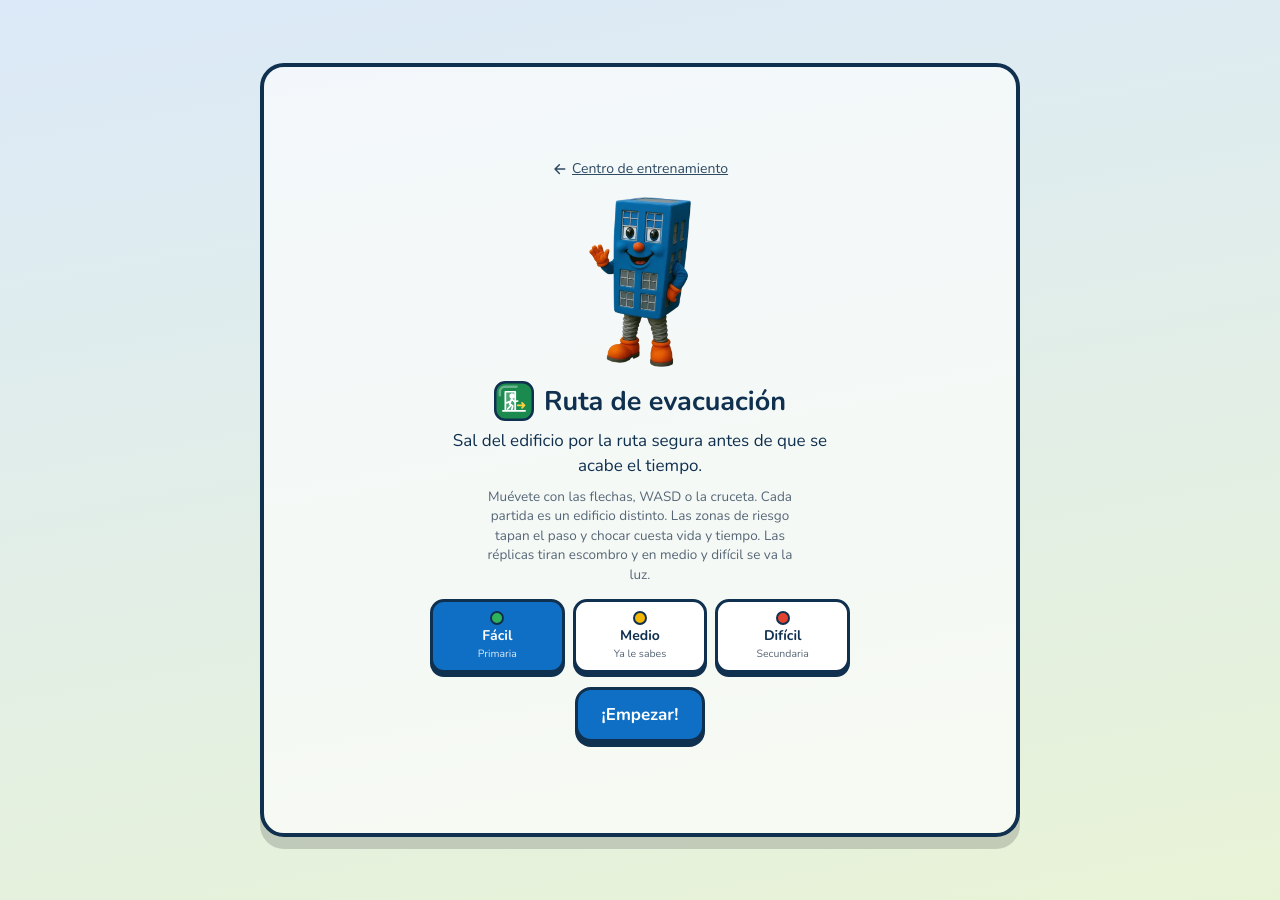
it: ruta de evacuación difícil de verdad › medio: se va la luz y la linterna alumbra poco
Click the radio button with class "dificultad" showing "Medio Ya le sabes". click: (640, 636)
box: 573,598 -> 707,672
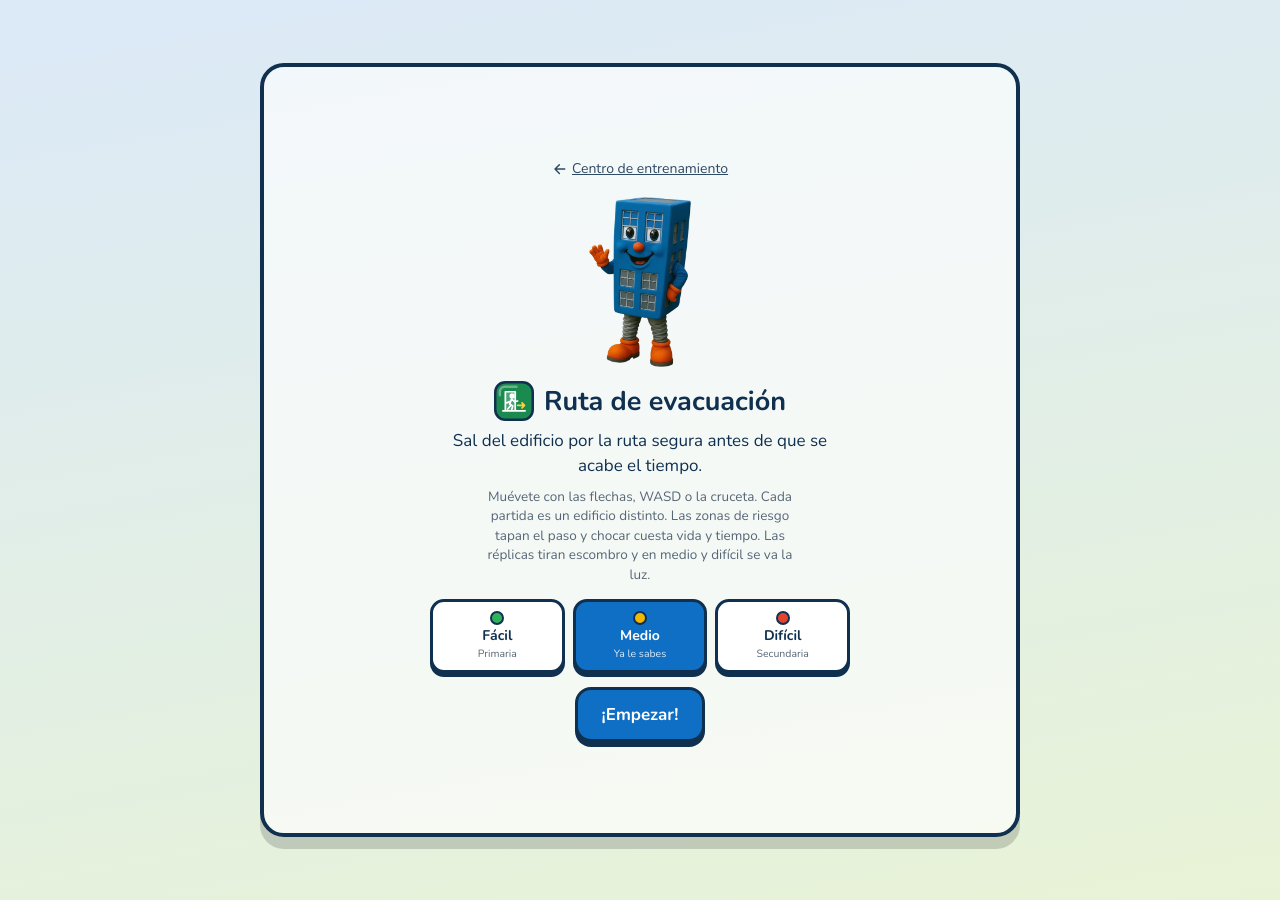
Click the button "¡Empezar!". click: (640, 714)
box: 574,686 -> 705,742
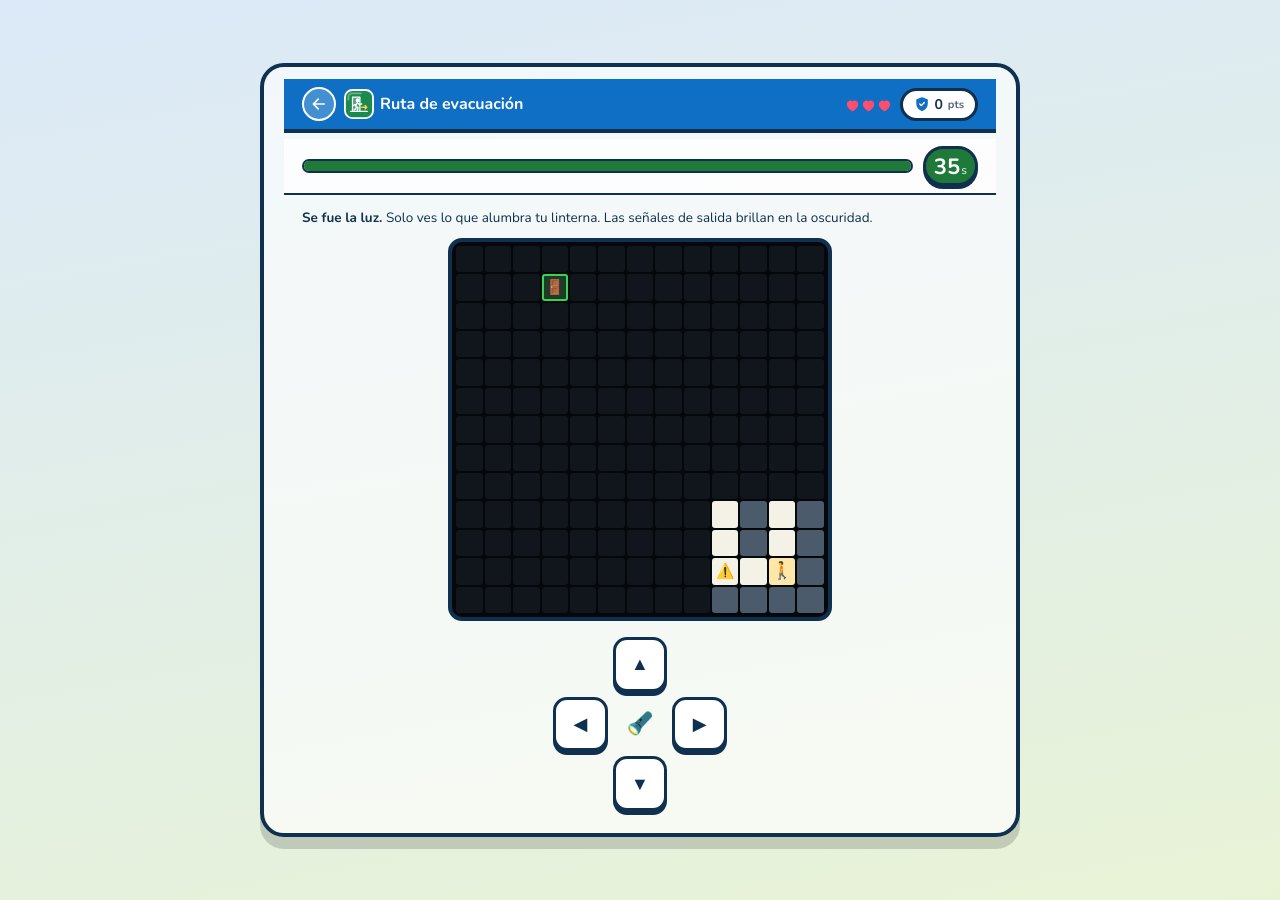
Now the number of elements with class "celda" is 169
Now the text with class "cruceta__centro" reads "🔦", box 626,709 -> 654,739
